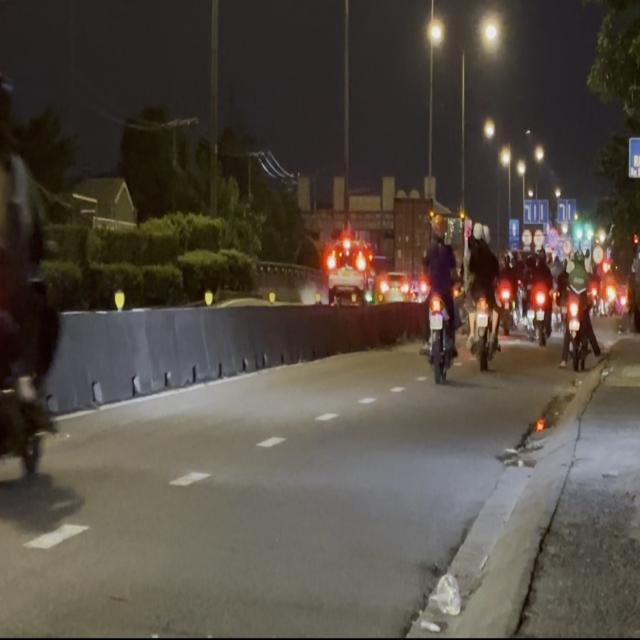licenseplate: (0, 0, 65, 520)
